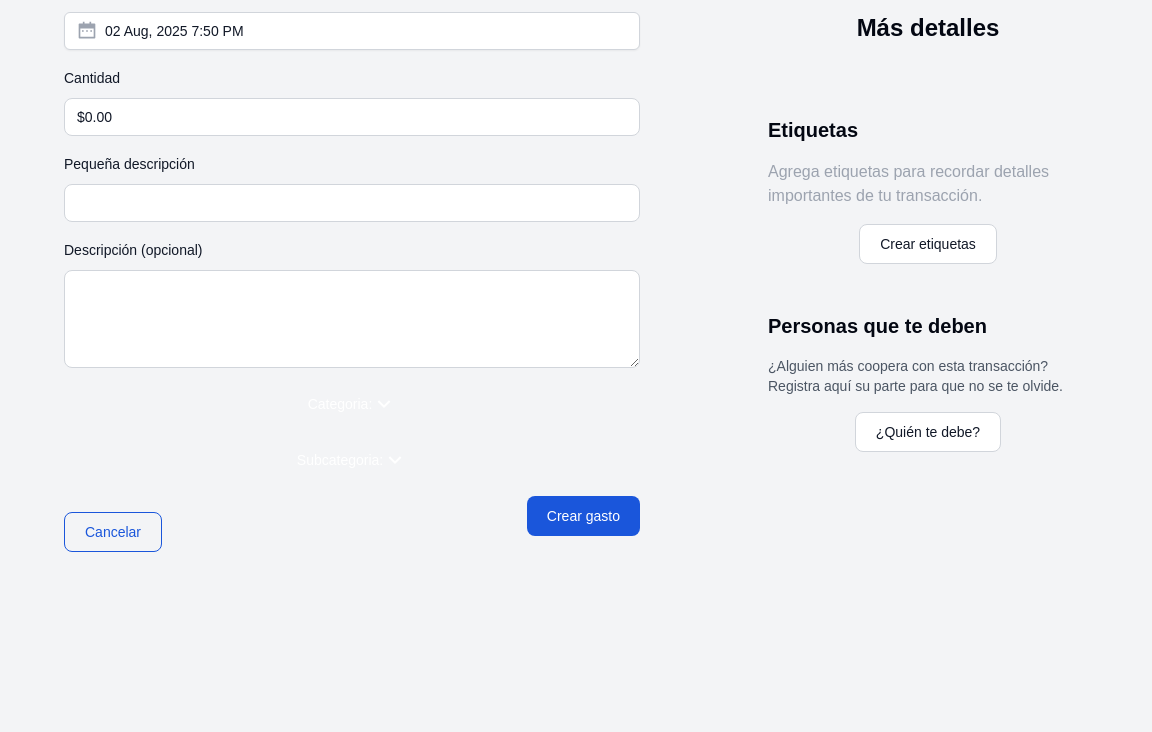
it: ExpenseTemplate › Form Validations › Given a user clicking on create expense, show validation error for short description to be required
Click the button "Crear gasto": click(583, 516) x1=527 y1=496 x2=640 y2=536
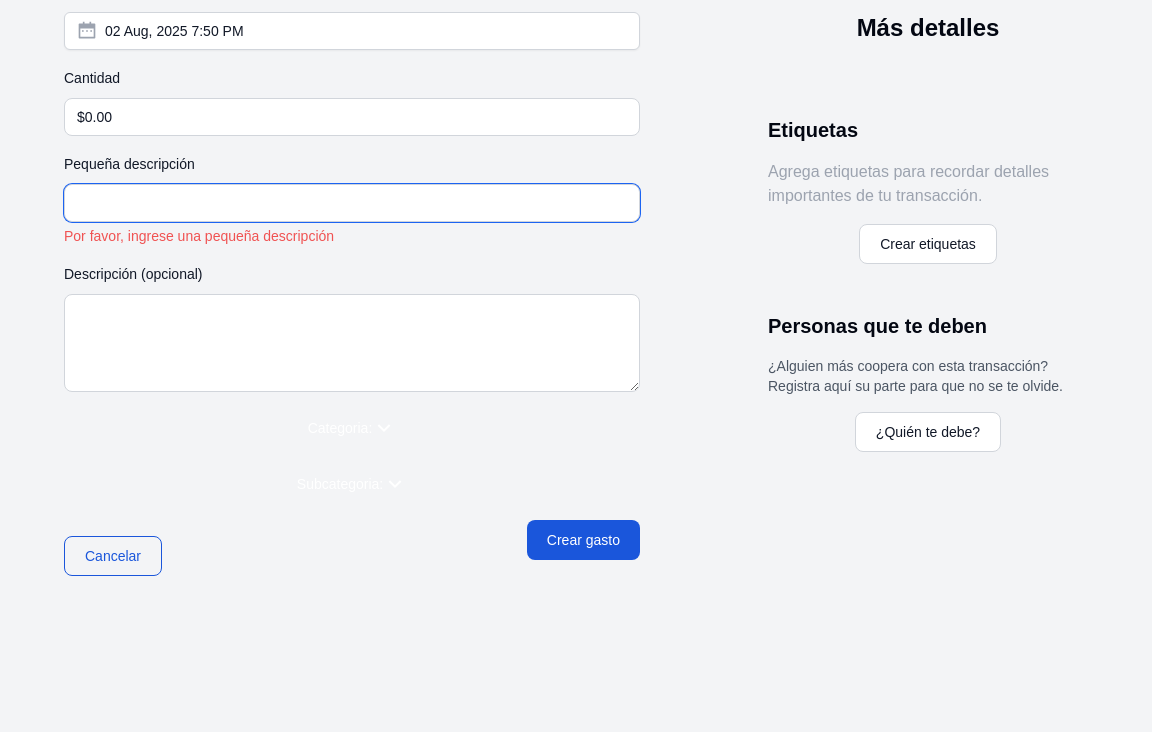
Expected: the text "Por favor, ingrese una pequeña descripción" is shown, x1=64 y1=228 x2=334 y2=244
